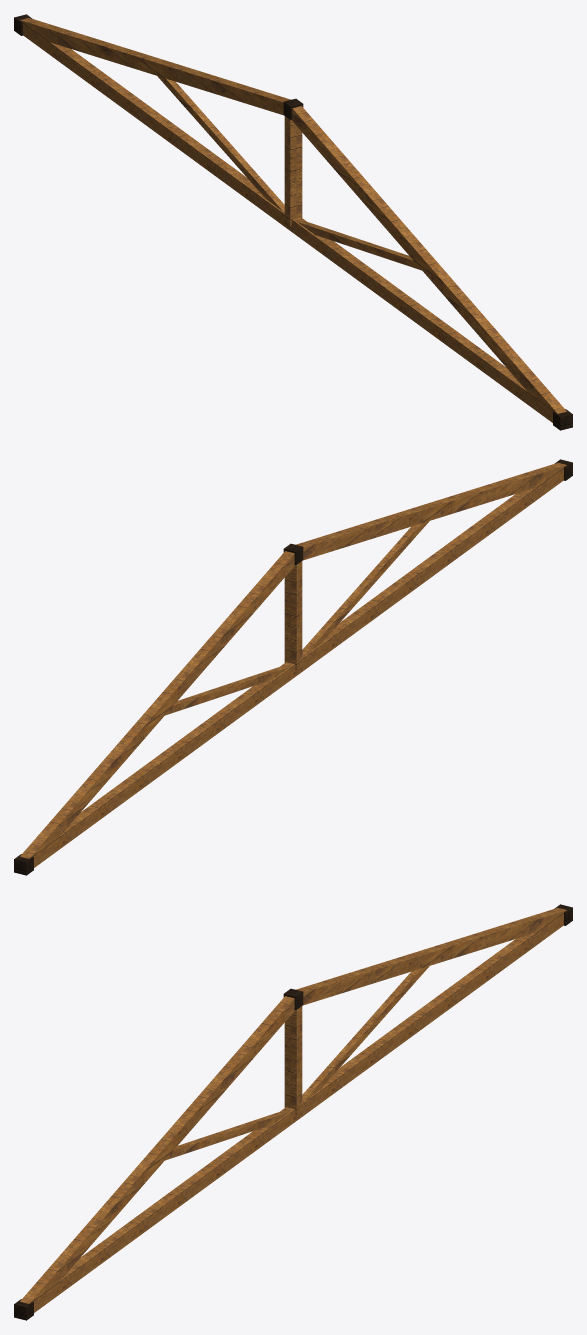
Rendered from long-span-timber-truss-v1.gltf.
The picture shows the model from 3 angles, top to bottom: view 1: azimuth 30°, elevation 25°; view 2: azimuth 150°, elevation 25°; view 3: azimuth 330°, elevation 25°; orthographic projection.
Parts seen in each view (by area): view 1: roof-truss-L0-wood, roof-truss-L0-iron; view 2: roof-truss-L0-wood, roof-truss-L0-iron; view 3: roof-truss-L0-wood, roof-truss-L0-iron.
Boxes of the visible parts, x1,y1,x2,y2 form: roof-truss-L0-wood: (20,18,566,422); roof-truss-L0-iron: (14,14,572,430); roof-truss-L0-wood: (20,463,566,867); roof-truss-L0-iron: (14,459,572,875); roof-truss-L0-wood: (20,908,566,1312); roof-truss-L0-iron: (14,904,572,1320).
Bounding box in the file's own units: 0.19 × 1.81 × 14.19.
Materials: 2 (2 with a texture image).
